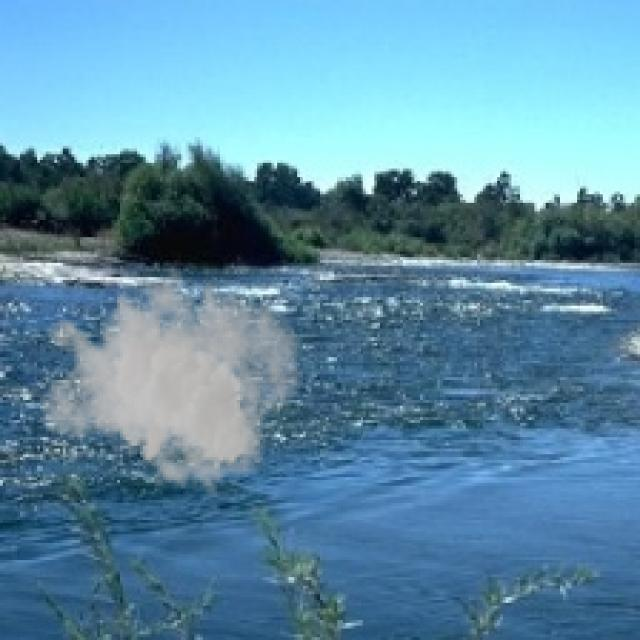smoke: (37, 252, 303, 497)
